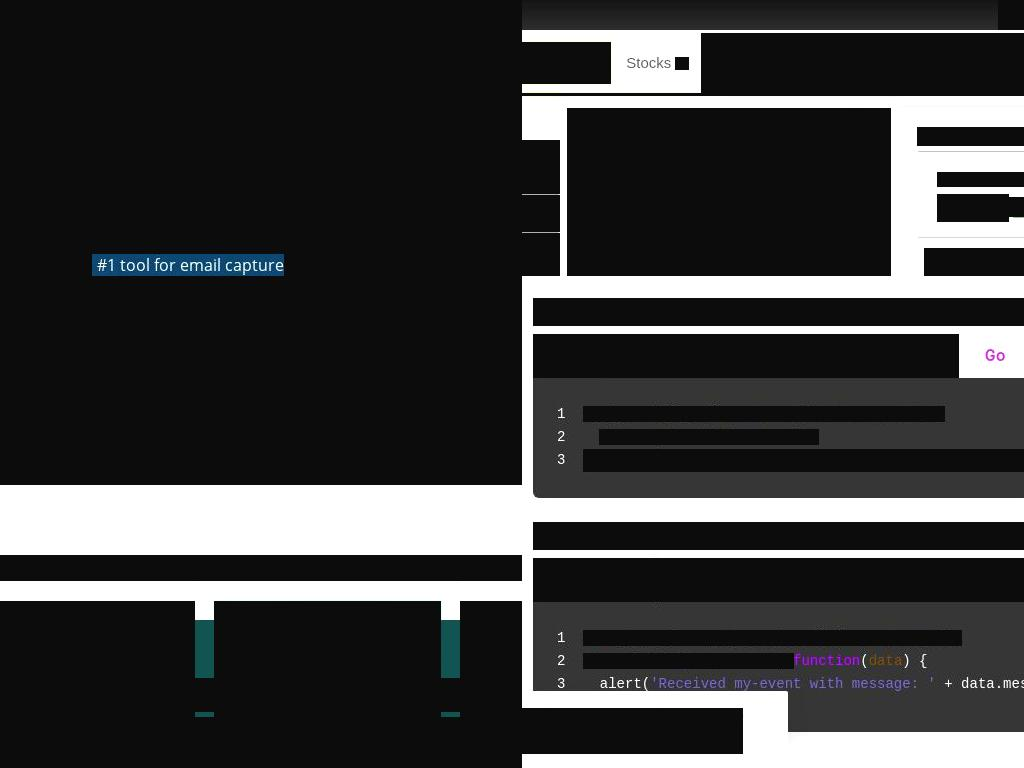button: (567, 108, 891, 276), (214, 601, 441, 768), (0, 601, 195, 768), (148, 0, 360, 43), (701, 33, 838, 93), (837, 33, 956, 93), (533, 558, 658, 602), (657, 558, 782, 602), (782, 558, 907, 602), (611, 33, 702, 93), (906, 558, 1024, 602), (955, 33, 1024, 93), (522, 42, 612, 84), (533, 334, 605, 378), (604, 334, 676, 378), (675, 334, 747, 378), (746, 334, 818, 378), (817, 334, 889, 378), (888, 334, 960, 378), (959, 334, 1024, 378), (533, 748, 652, 768), (533, 759, 652, 768)
field: (0, 317, 459, 377), (0, 0, 136, 43)
heading: (0, 678, 494, 712), (533, 298, 1024, 326), (533, 522, 1024, 550), (0, 555, 522, 581), (0, 276, 522, 297), (917, 127, 1024, 146), (214, 761, 441, 768), (0, 761, 195, 768)
image: (0, 276, 522, 485), (0, 0, 522, 192), (0, 107, 522, 276), (567, 108, 891, 276), (214, 601, 441, 752), (214, 601, 441, 752), (0, 601, 195, 752), (0, 601, 195, 752), (460, 601, 522, 752), (460, 601, 522, 752), (156, 609, 185, 637), (402, 609, 431, 637), (66, 181, 89, 204), (66, 217, 89, 240), (66, 253, 89, 276), (558, 93, 730, 96), (729, 93, 900, 96), (899, 93, 1024, 96), (1007, 197, 1024, 217), (675, 57, 689, 70), (811, 57, 825, 70), (929, 57, 943, 70), (522, 93, 559, 96)
link: (522, 733, 610, 754)
text: (0, 717, 494, 768), (522, 708, 743, 754), (583, 449, 1024, 472), (583, 696, 1024, 719), (650, 676, 937, 692), (92, 218, 280, 241), (92, 254, 284, 276), (608, 630, 844, 646), (924, 248, 1024, 276), (92, 182, 192, 205), (583, 406, 717, 422), (937, 194, 1009, 222), (709, 429, 819, 445), (583, 653, 692, 669), (717, 406, 819, 422), (843, 630, 945, 646), (716, 54, 808, 71), (935, 676, 1024, 692), (835, 406, 920, 422), (692, 653, 777, 669), (937, 172, 1024, 187), (852, 54, 926, 71), (599, 429, 675, 445), (793, 653, 861, 669), (583, 676, 650, 692), (970, 54, 1024, 71), (626, 54, 672, 71), (675, 429, 710, 445), (868, 653, 902, 669), (919, 406, 945, 422), (583, 630, 608, 646), (818, 406, 836, 422), (944, 630, 962, 646), (776, 653, 794, 669), (902, 653, 920, 669), (860, 653, 870, 669), (919, 653, 929, 669), (610, 733, 615, 754)
